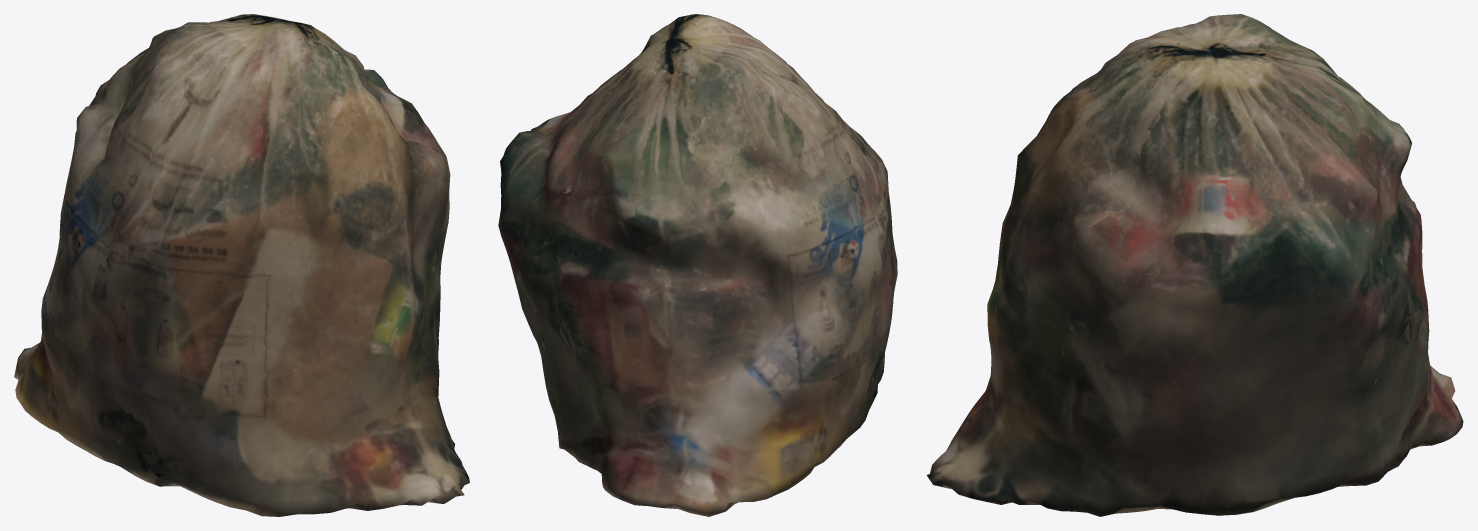
The model's file is trash.dae.
3 views of the same model, side by side, from view 1: azimuth 30°, elevation 25°; view 2: azimuth 150°, elevation 25°; view 3: azimuth 270°, elevation 25° (orthographic). The views are drawn at different scales.
Visible parts, largest first — view 1: texturedMesh.001; view 2: texturedMesh.001; view 3: texturedMesh.001.
Part boxes in pixels (box(x1,y1,x2,y2)): texturedMesh.001: box(14, 14, 469, 516); texturedMesh.001: box(498, 14, 897, 516); texturedMesh.001: box(926, 14, 1463, 516).
Bounding box in the file's own units: 0.5471 × 0.6771 × 0.5821.
